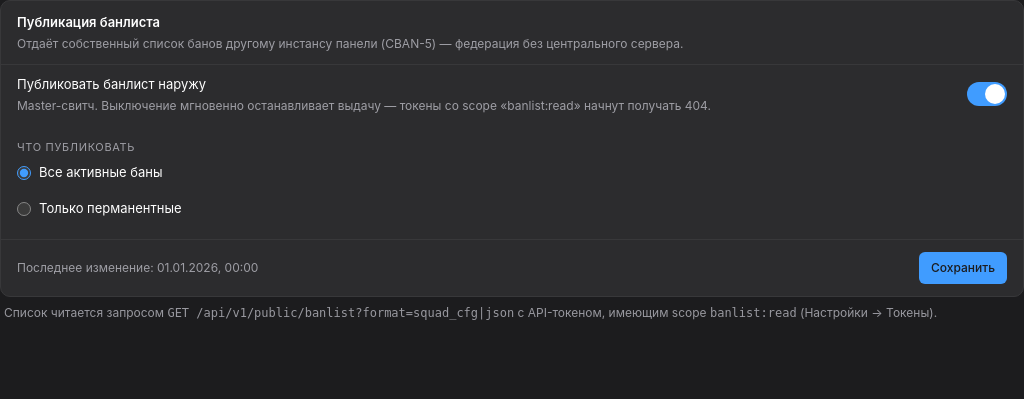
Test: PublicationSection › saves the toggled scope via PUT and shows a confirmation
Expected: the switch named "Публиковать банлист наружу" is shown, [967,82,1007,106]
Click the radio button labelled "Только перманентные".
click(24, 208)  # box [17,202,31,216]
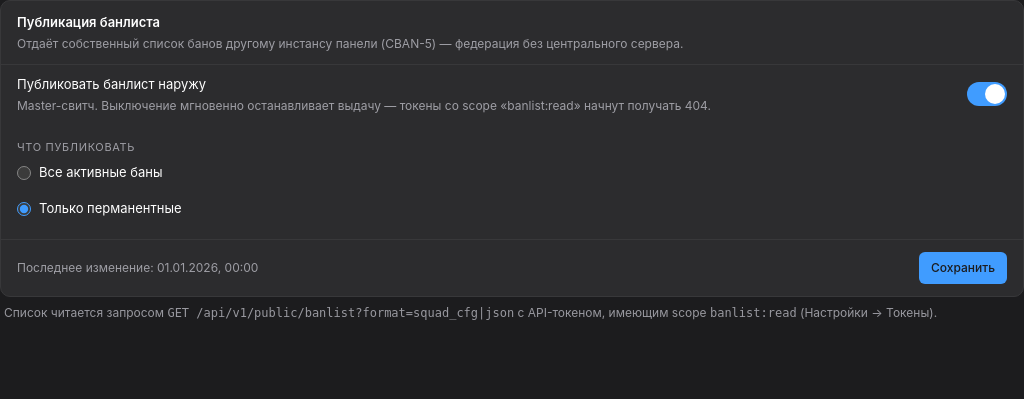
Click the button "Сохранить".
click(963, 268)  # box [919,252,1007,284]
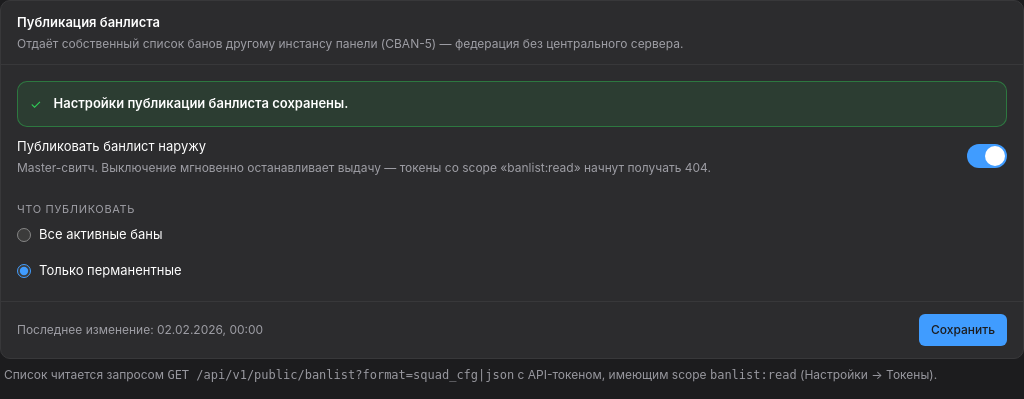
Now the radio button labelled "Только перманентные" is checked, box [17,264,31,278]
Now the text "Настройки публикации банлиста сохранены." is shown, box [54,95,348,111]
